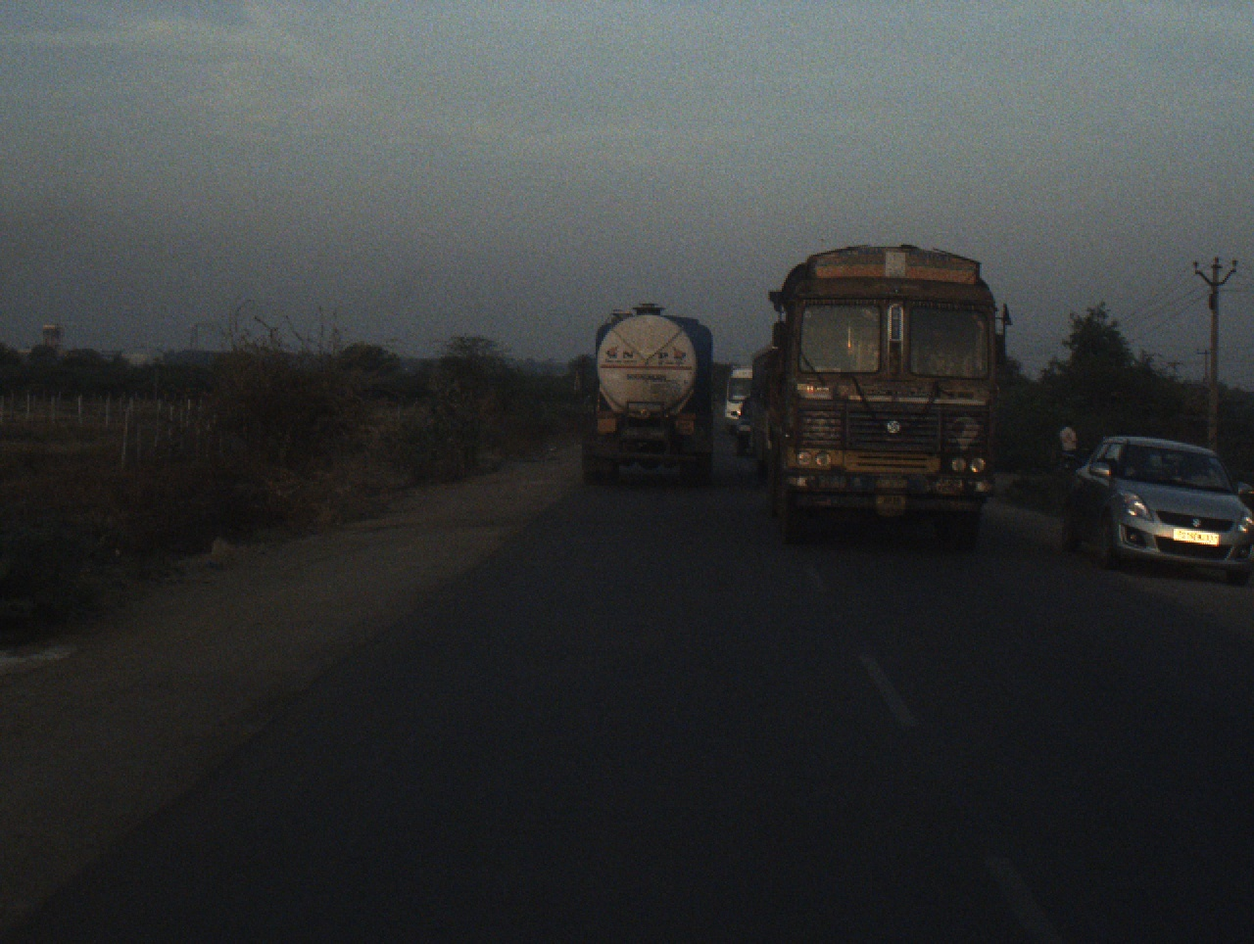bus: (751, 345, 780, 467), (724, 363, 756, 435)
car: (1055, 433, 1254, 574), (732, 395, 760, 447)
person: (1059, 422, 1081, 472)
truck: (764, 241, 1020, 552), (589, 301, 719, 494)
